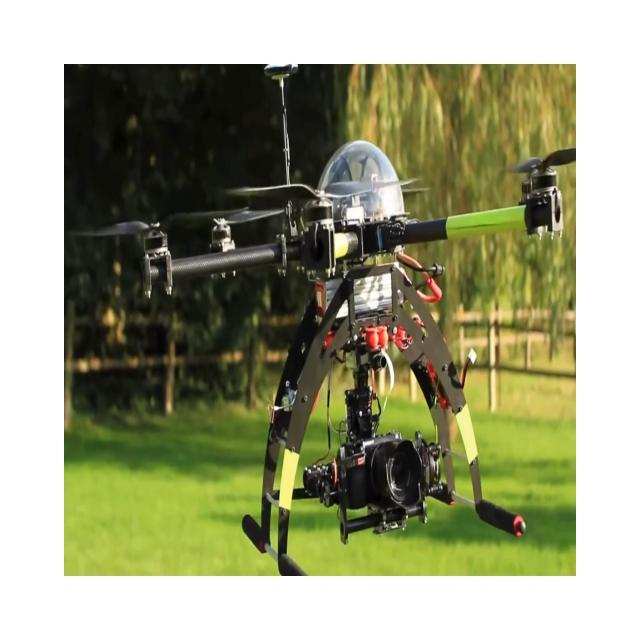drone: (69, 63, 575, 575)
